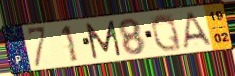1: (60, 24, 80, 63)
7: (26, 25, 49, 69)
8: (118, 17, 149, 57)
A: (181, 10, 215, 50)
M: (84, 19, 123, 61)
Q: (149, 12, 184, 53)
